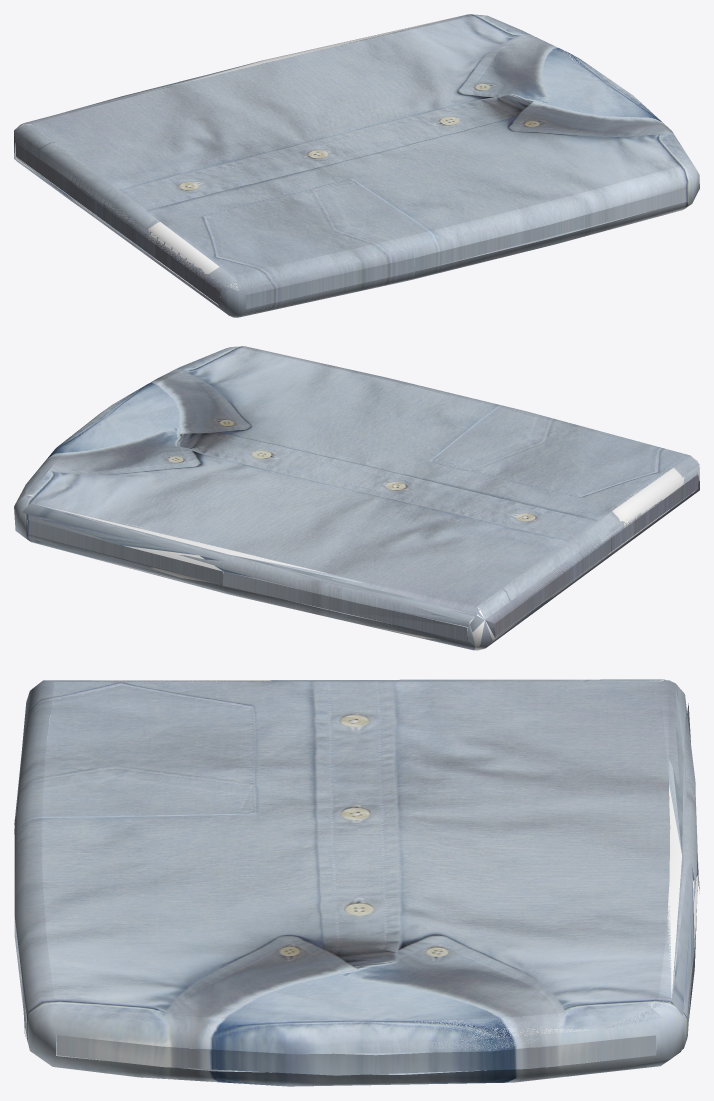
Rendered from Hand_asset_Office-shirt.fbx.
The picture shows the model from 3 angles, top to bottom: view 1: azimuth 30°, elevation 25°; view 2: azimuth 150°, elevation 25°; view 3: azimuth 270°, elevation 25°; orthographic projection. The views are drawn at different scales.
Parts seen in each view (by area): view 1: office-shirt; view 2: office-shirt; view 3: office-shirt.
Boxes of the visible parts, left/top/right/bottom form: office-shirt: left=14, top=14, right=699, bottom=317; office-shirt: left=14, top=346, right=699, bottom=650; office-shirt: left=14, top=679, right=699, bottom=1086.
Size of the model in its own units: 64.86 by 5.07 by 51.43.
